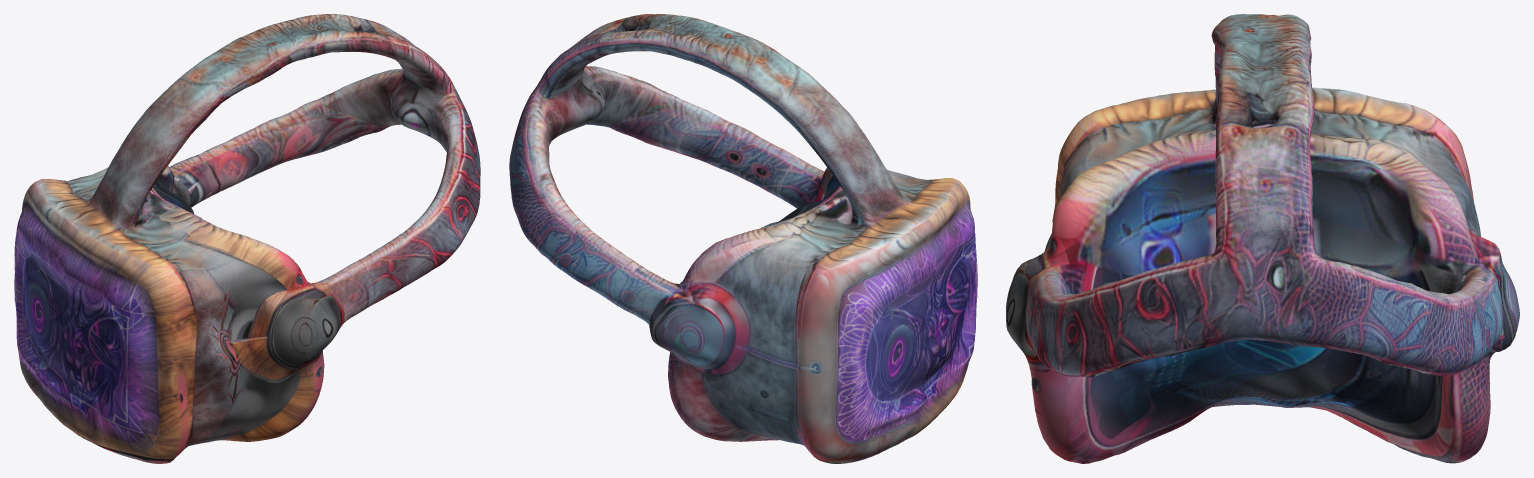
3 views of the same model, side by side, from view 1: azimuth 30°, elevation 25°; view 2: azimuth 150°, elevation 25°; view 3: azimuth 270°, elevation 25° (orthographic). The views are drawn at different scales.
Visible parts, largest first — view 1: Mesh_0; view 2: Mesh_0; view 3: Mesh_0.
Boxes of the visible parts, x1,y1,x2,y2 form: Mesh_0: (14, 14, 480, 463); Mesh_0: (509, 14, 977, 463); Mesh_0: (1006, 14, 1519, 463).
Size of the model in its own units: 120 by 102 by 95.82.
Materials: 1 (1 with a texture image).
